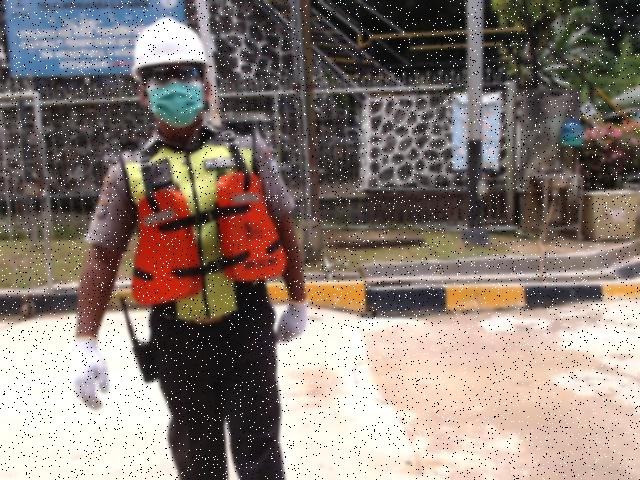glasses: (147, 67, 202, 85)
gloves: (66, 335, 115, 415), (271, 293, 313, 348)
helmet: (131, 15, 206, 67)
mask: (149, 86, 202, 127)
vest: (125, 167, 286, 305)
